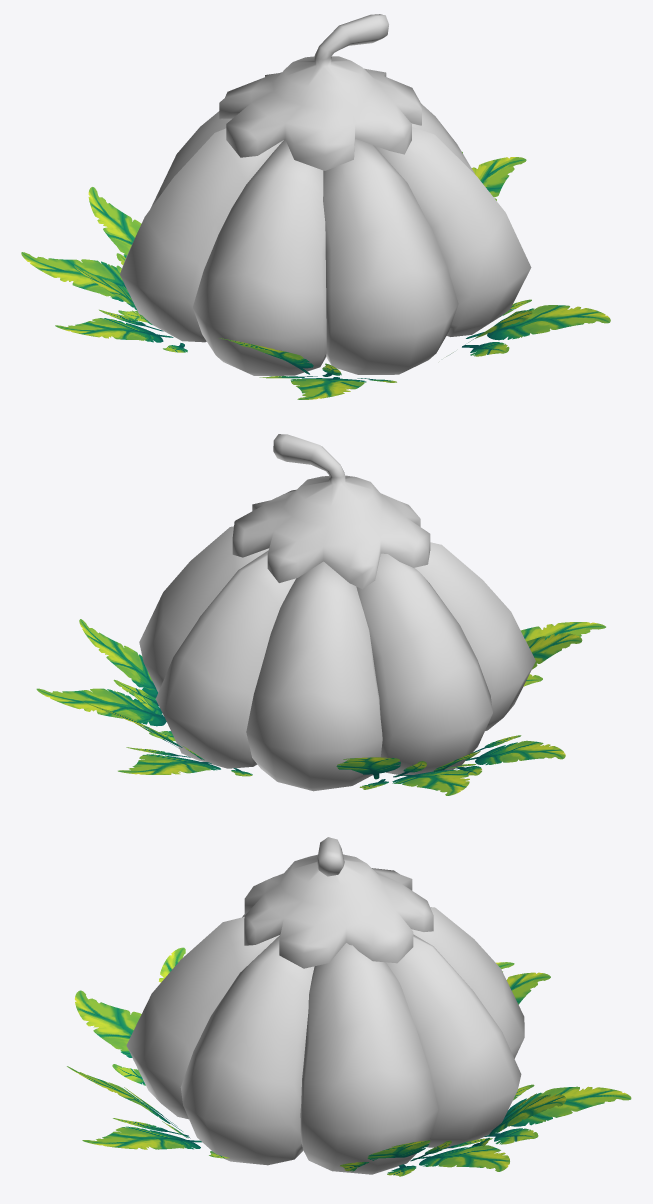
The model's file is SM_Pumpkin.fbx.
3 views of the same model, one above another, from view 1: azimuth 30°, elevation 25°; view 2: azimuth 150°, elevation 25°; view 3: azimuth 270°, elevation 25° (orthographic). The views are drawn at different scales.
Visible parts, largest first — view 1: PumpkinMesh; view 2: PumpkinMesh; view 3: PumpkinMesh.
Boxes of the visible parts, <box> form: PumpkinMesh: <box>21,14,610,399</box>; PumpkinMesh: <box>36,434,605,795</box>; PumpkinMesh: <box>67,837,631,1176</box>.
Bounding box in the file's own units: 328 × 173 × 340.
